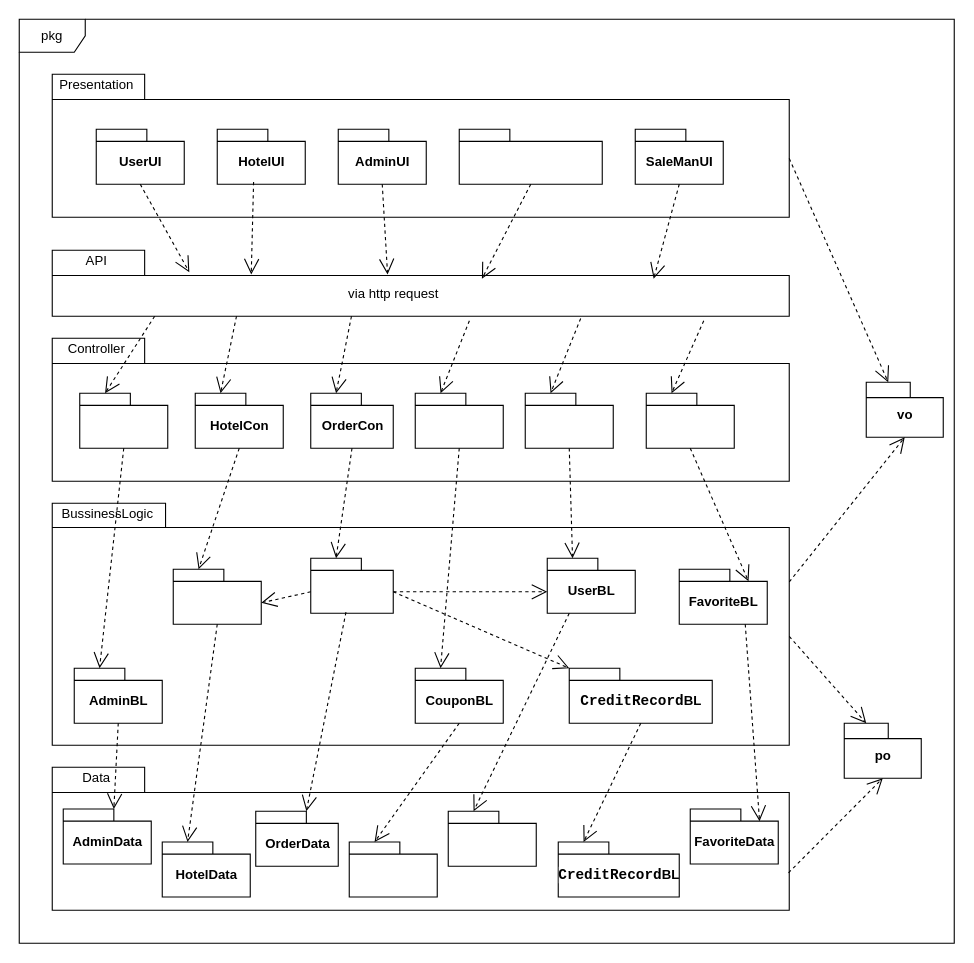
The diagram is 974 pixels wide and 963 high, and some of its shapes have lost their labels. Each missing label, with the box of its shape:
AdminCon: (79, 392, 168, 448)
CouponCon: (414, 392, 503, 448)
CouponData: (348, 841, 437, 897)
FavoriteCon: (645, 392, 734, 448)
HotelBL: (172, 568, 261, 624)
HotelManagerUI: (458, 128, 602, 184)
OrderBL: (310, 557, 393, 613)
UserCon: (524, 392, 613, 448)
UserData: (447, 810, 536, 866)
